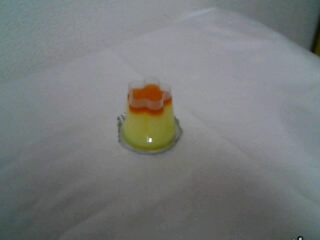001_classes: (111, 72, 193, 159)
